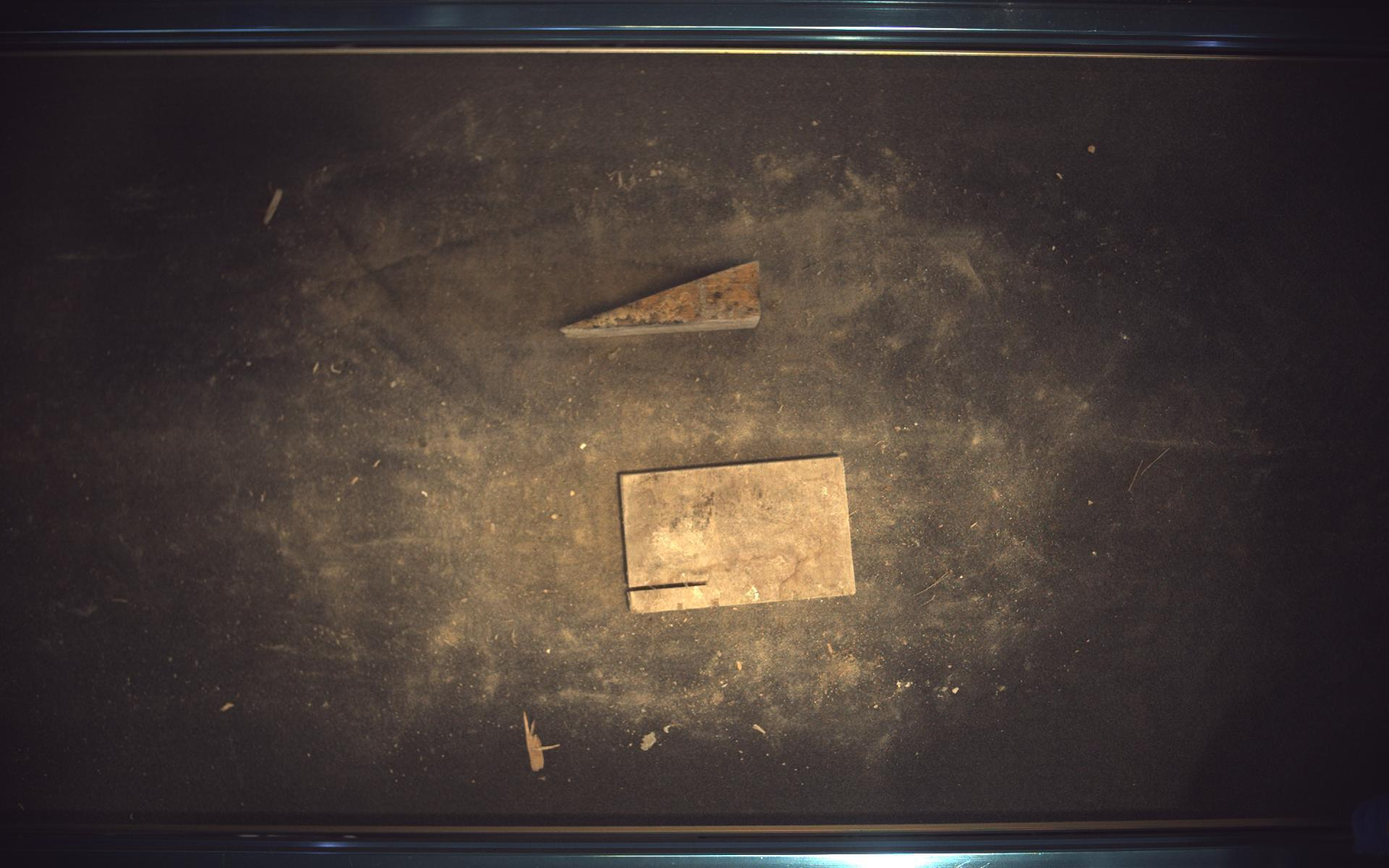wood: (621, 457, 857, 614), (561, 261, 762, 338)
